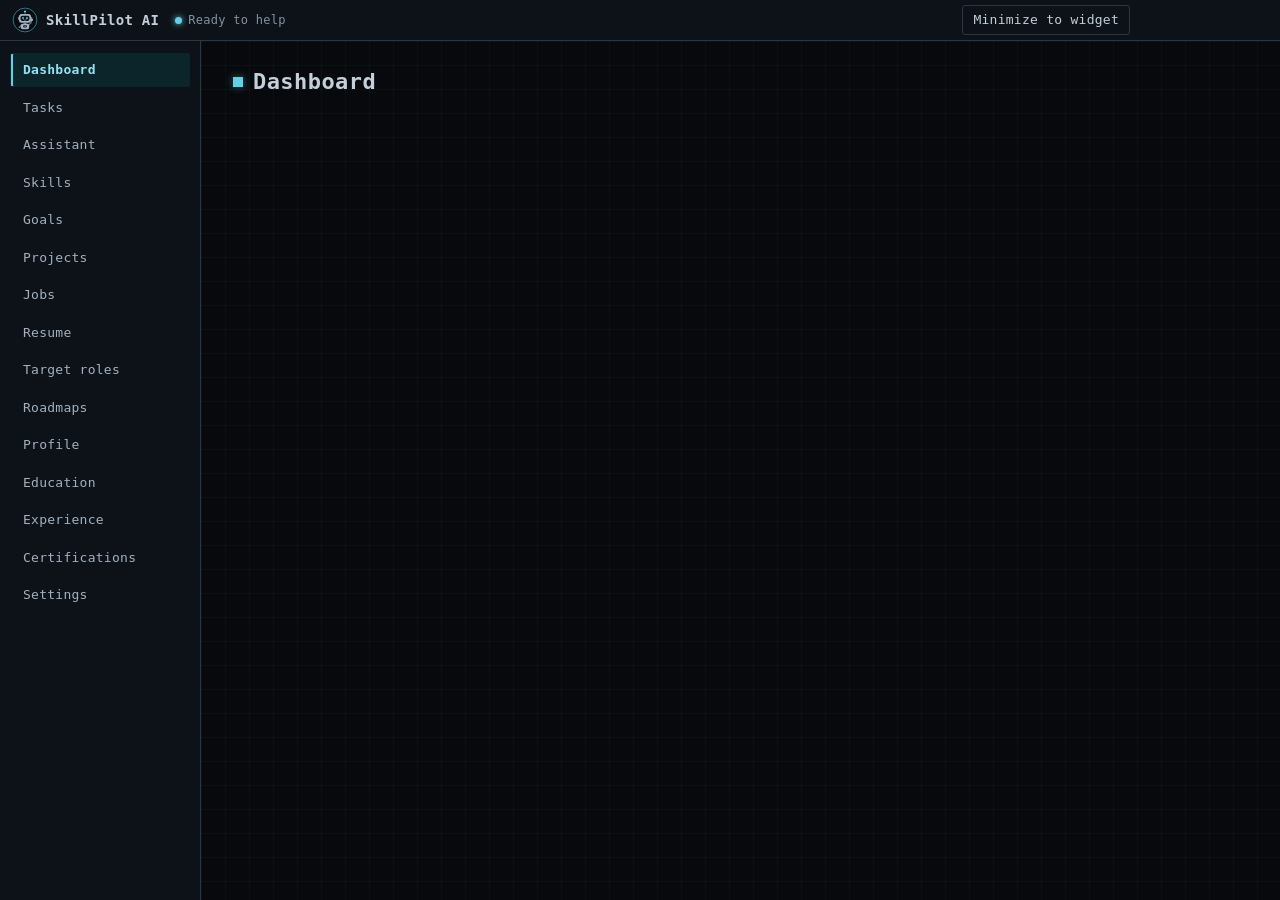
Test: App › switches to Goals
Expected: the heading "Dashboard" is shown, [253, 69, 376, 94]
Click the button "Goals". click: (100, 220)
box: [10, 203, 190, 236]
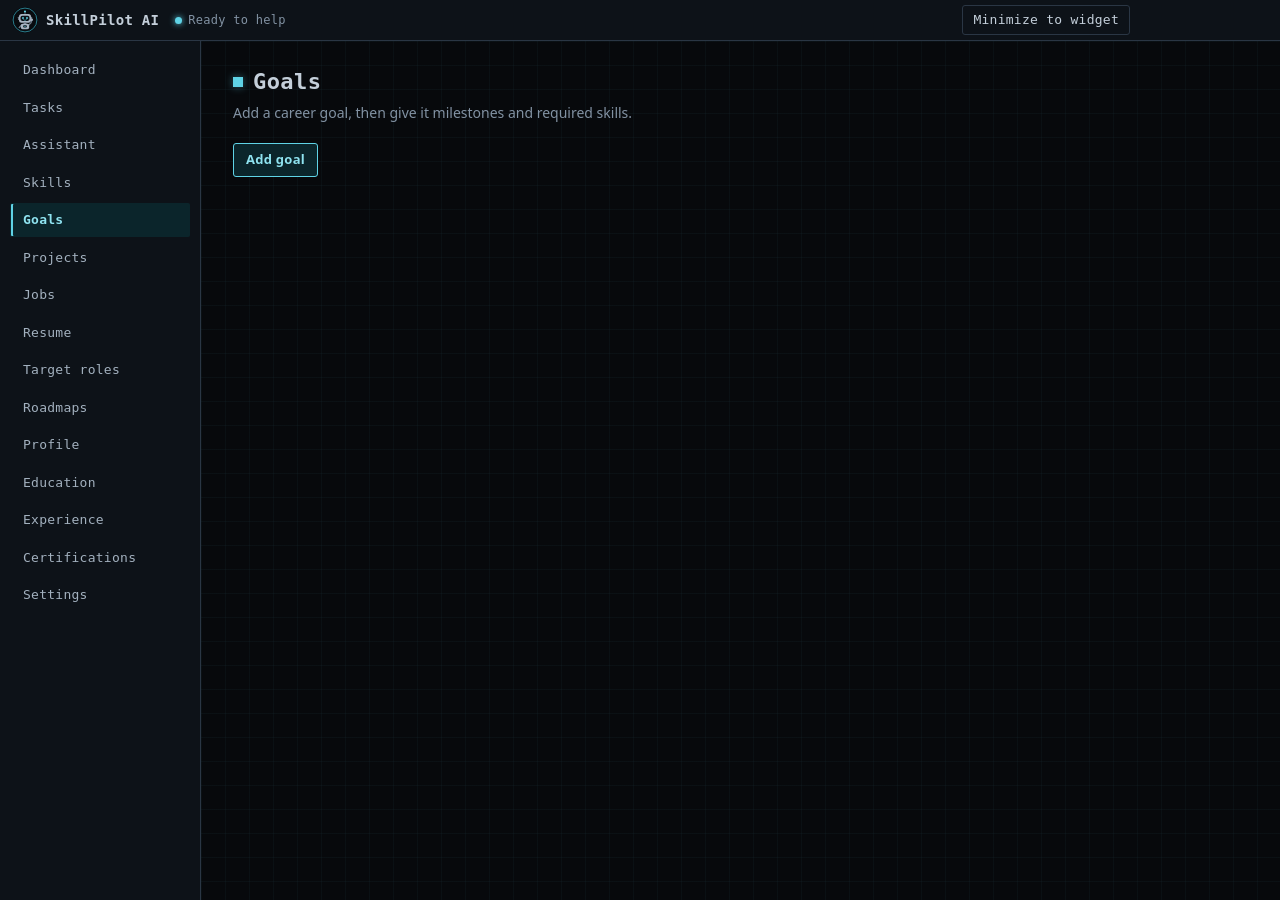
Expected: the heading "Goals" is shown, [253, 69, 321, 94]
